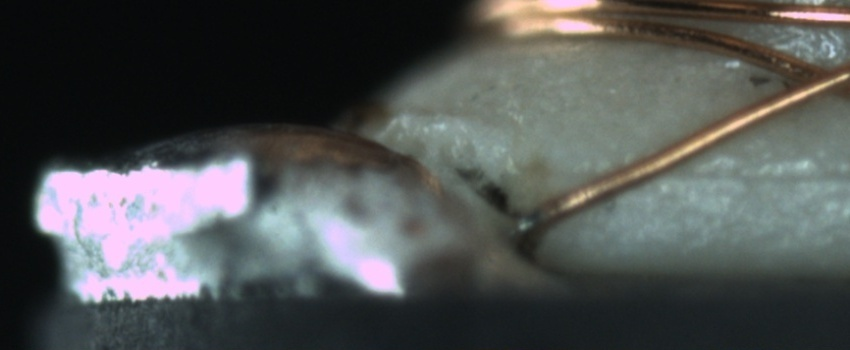CL: (759, 46, 850, 108)
DL: (605, 140, 849, 207)
